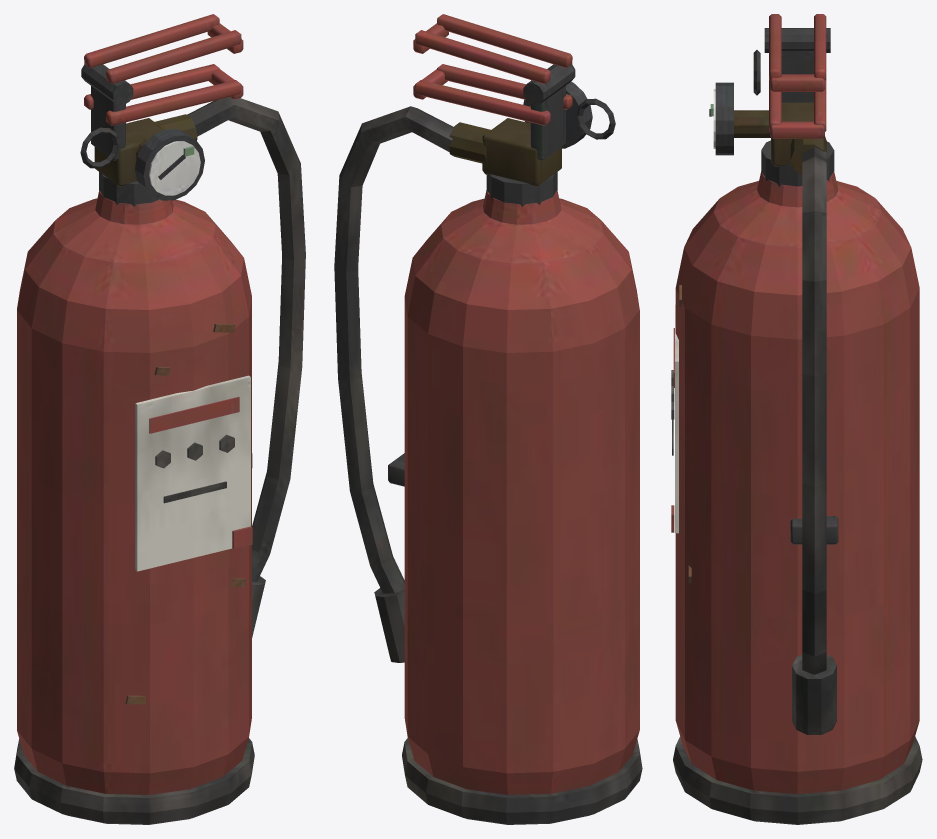
File: O26_fire_extinguisher.glb
3 views of the same model, side by side, from view 1: azimuth 30°, elevation 25°; view 2: azimuth 150°, elevation 25°; view 3: azimuth 270°, elevation 25° (orthographic). The views are drawn at different scales.
Visible parts, largest first — view 1: Pressed steel red vessel; view 2: Pressed steel red vessel; view 3: Pressed steel red vessel.
Part boxes in pixels (box(x1,y1,x2,y2)): Pressed steel red vessel: box(14, 14, 305, 824); Pressed steel red vessel: box(334, 14, 642, 824); Pressed steel red vessel: box(671, 14, 922, 824).
Size of the model in its own units: 0.2436 by 0.6 by 0.181.
8 materials, 8 textured.
